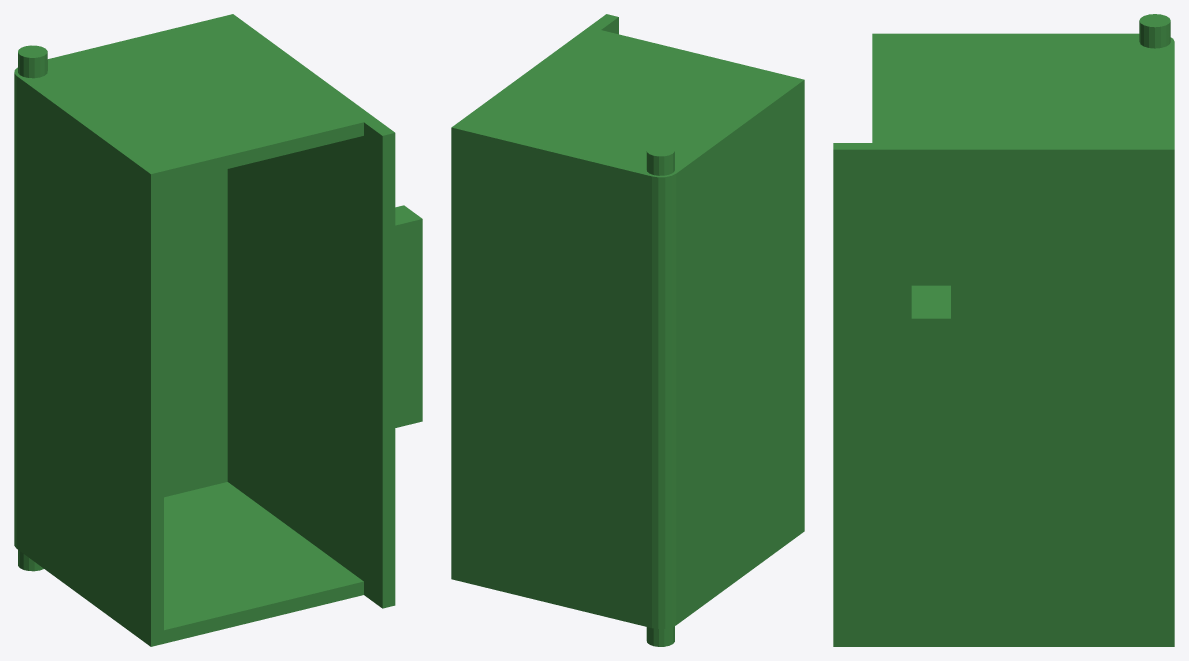
Rendered from tn__Gaveta1_aE_Corpo1_Mesh.obj.
3 renders of one model, left to right at view 1: azimuth 30°, elevation 25°; view 2: azimuth 150°, elevation 25°; view 3: azimuth 270°, elevation 25°, orthographic. The views are drawn at different scales.
Bounding box in the file's own units: 45 × 76 × 43.55.
